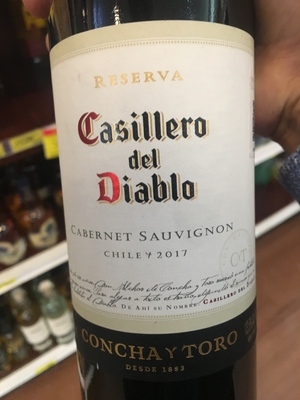casillero del diablo cabernet sauvignon: (47, 9, 264, 400)
